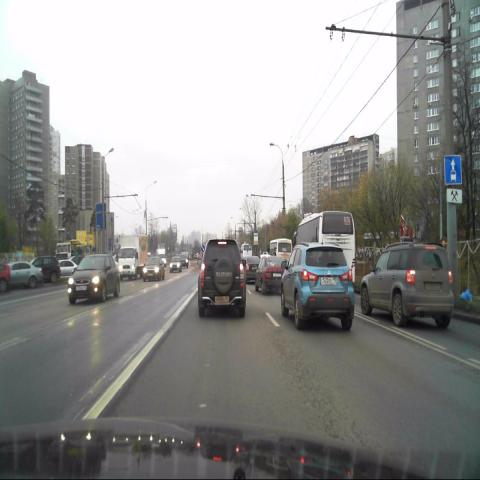5_14: (444, 155, 461, 184)
